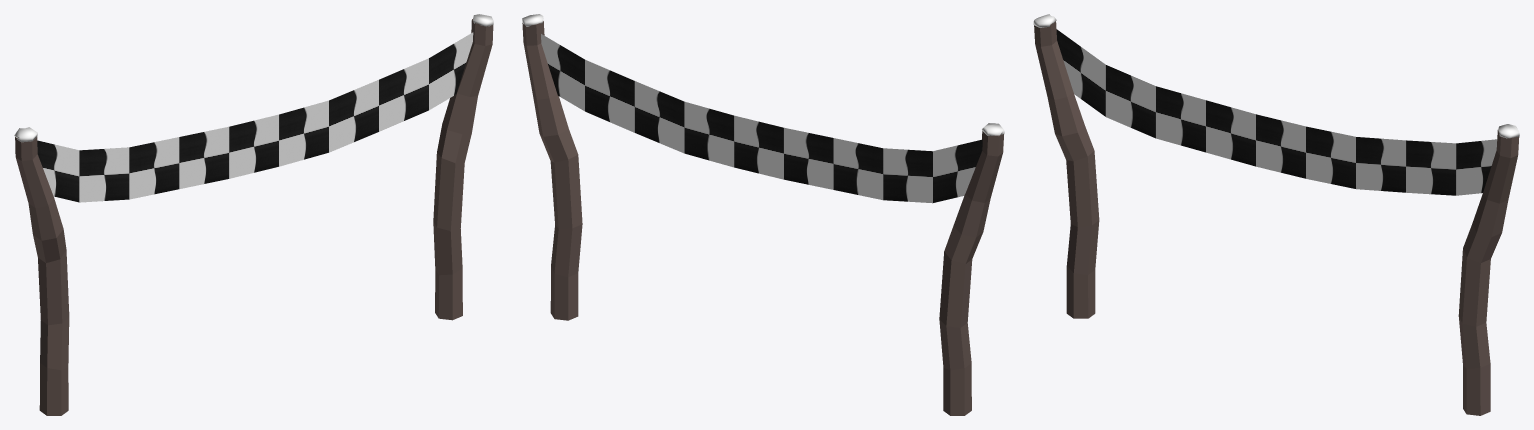
Rendered from race-goal.fbx.
The picture shows the model from 3 angles, left to right: view 1: azimuth 30°, elevation 25°; view 2: azimuth 150°, elevation 25°; view 3: azimuth 330°, elevation 25°; orthographic projection.
Parts seen in each view (by area): view 1: mdl_race_goal; view 2: mdl_race_goal; view 3: mdl_race_goal.
Boxes of the visible parts, box(x1,y1,x2,y2) form: mdl_race_goal: box(14, 14, 493, 415); mdl_race_goal: box(522, 14, 1004, 415); mdl_race_goal: box(1033, 14, 1519, 415).
Bounding box in the file's own units: 1921 × 1113 × 135.
